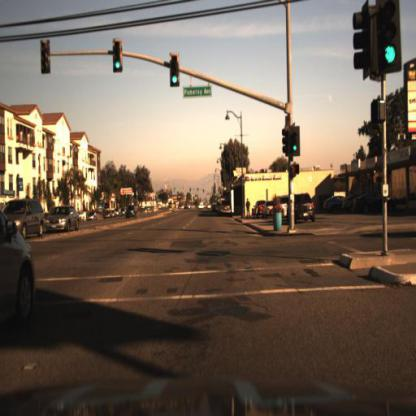car: (43, 198, 83, 237), (44, 202, 84, 237), (287, 189, 320, 227), (289, 188, 318, 228), (352, 190, 386, 217), (353, 193, 394, 210), (275, 191, 293, 224), (272, 198, 292, 227), (320, 193, 342, 216), (340, 191, 354, 219), (251, 198, 266, 219), (322, 196, 343, 211), (263, 197, 275, 223), (221, 194, 233, 219), (252, 200, 267, 220), (124, 204, 141, 220), (343, 192, 354, 210)
pedestrian: (245, 194, 253, 220), (246, 196, 252, 221)
trafficLight-Green: (288, 126, 302, 157), (113, 38, 125, 74), (170, 52, 180, 92), (288, 134, 302, 160), (168, 69, 184, 90)
